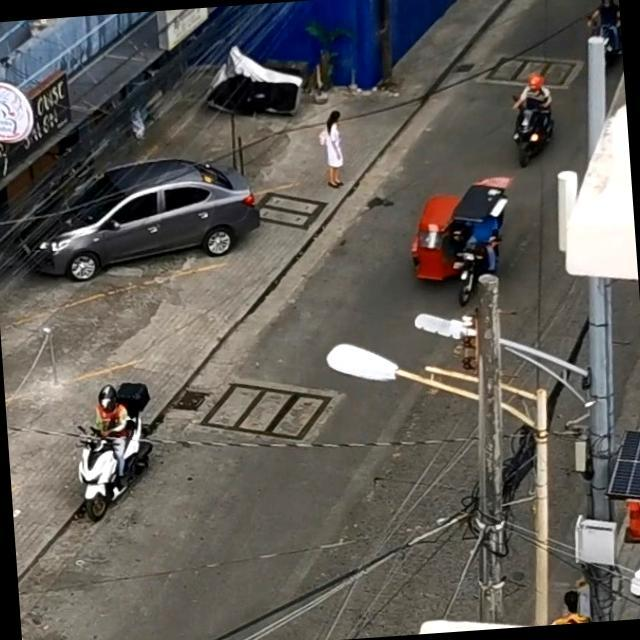Car: (22, 153, 254, 282)
